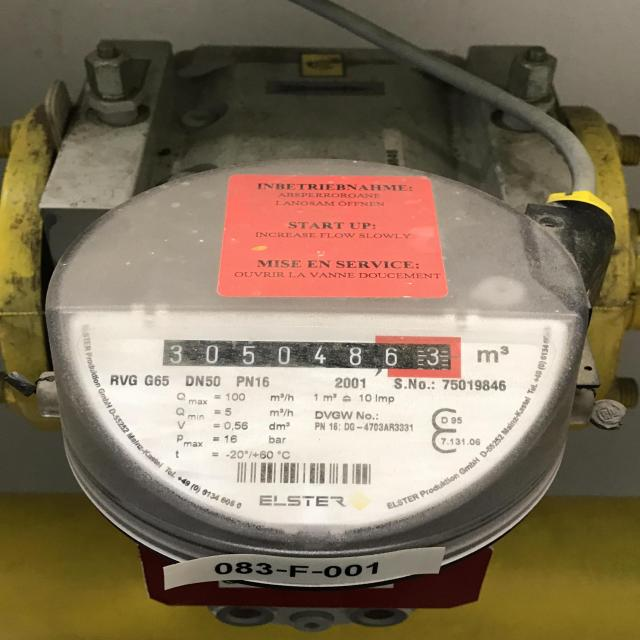gaz_meter: (48, 160, 576, 581)
indication: (161, 338, 460, 375)
